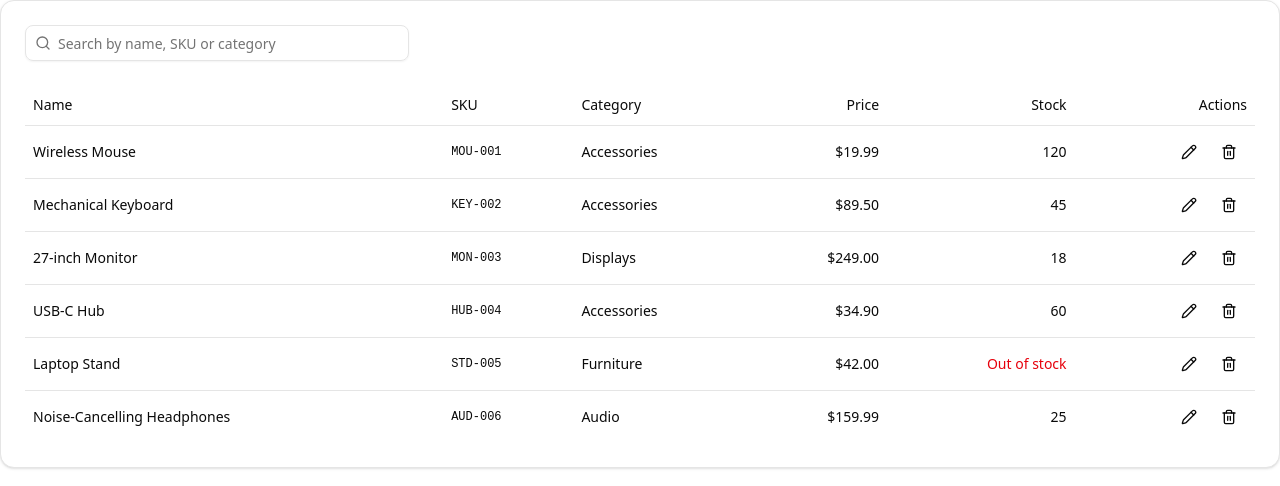
Test: <ProductsTable /> › pide confirmación y elimina el producto (también de localStorage)
This screenshot has width=1280, height=486.
Click the button named "Delete Wireless Mouse": (1229, 152) [1211,134,1247,170]
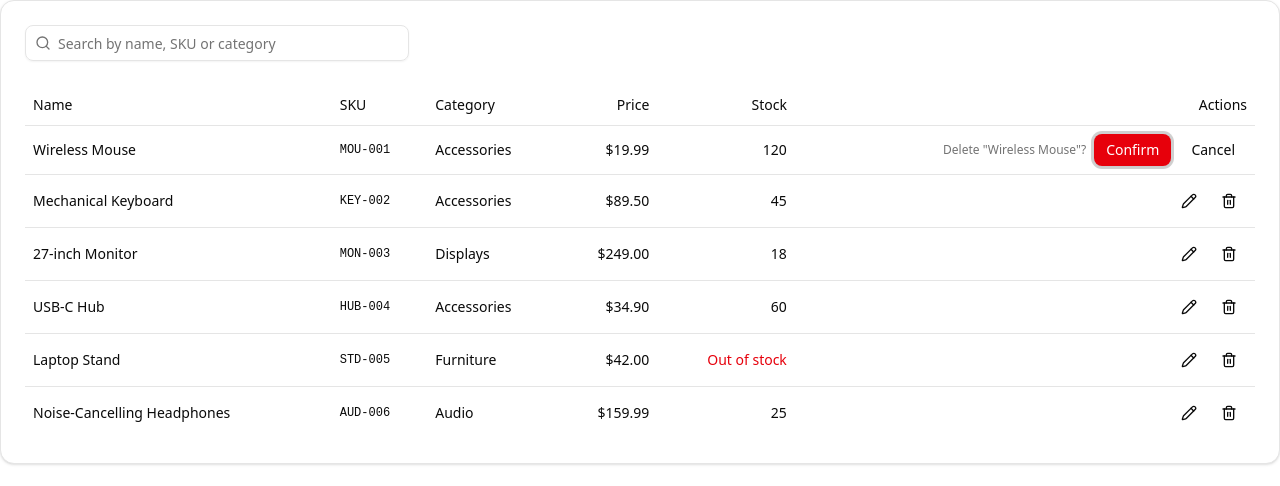
Now the text "Delete \"Wireless Mouse\"?" is shown, box [943,142,1086,158]
Click the button "Confirm": (1133, 150) [1094,134,1171,166]
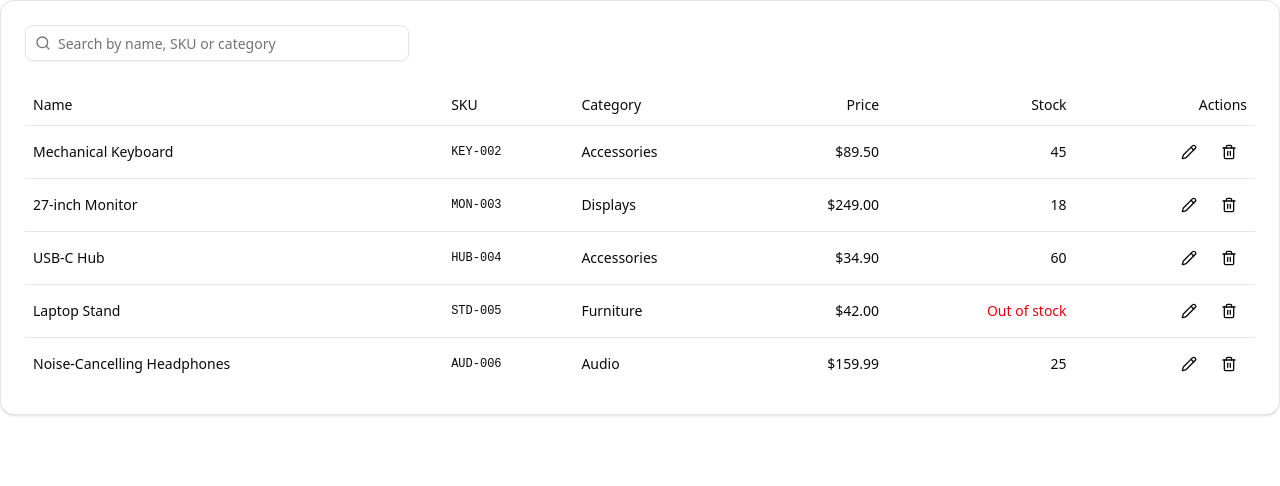
Now the text "Wireless Mouse" is gone
